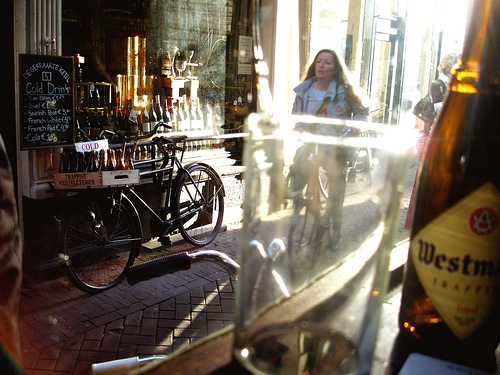non-vehicle: (57, 120, 226, 290), (286, 126, 352, 287), (126, 249, 239, 286)
